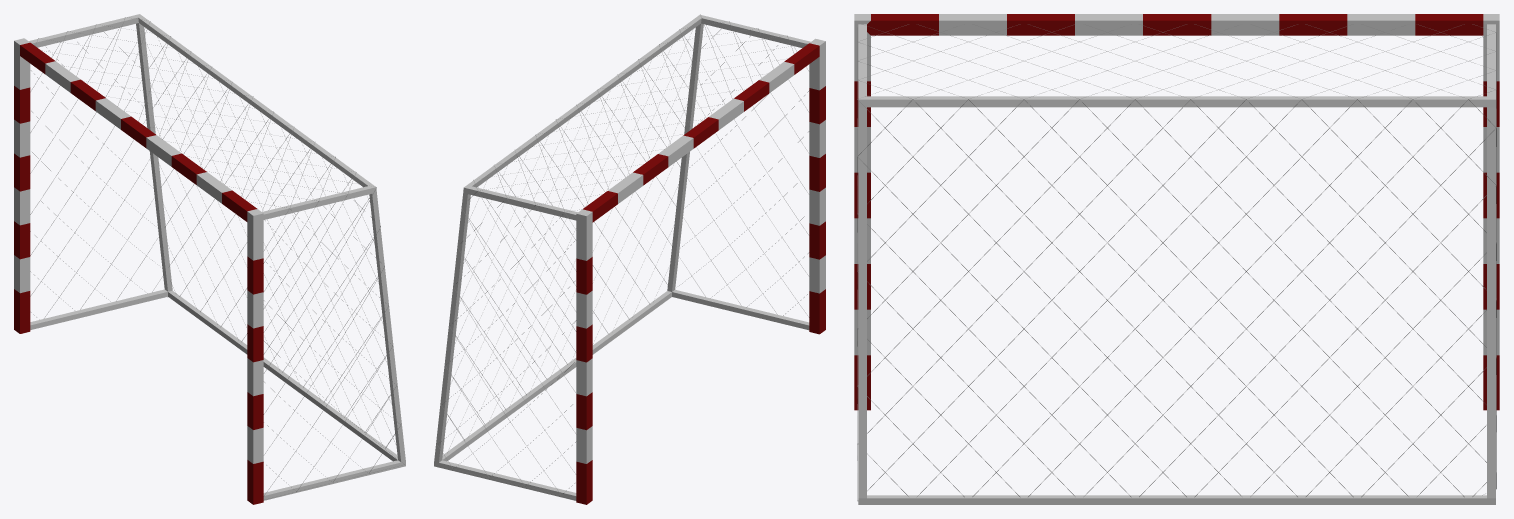
File: soccer_net.obj
3 views of the same model, side by side, from view 1: azimuth 30°, elevation 25°; view 2: azimuth 150°, elevation 25°; view 3: azimuth 270°, elevation 25° (orthographic). The views are drawn at different scales.
Parts seen in each view (by area): view 1: PORTERIA_Plane; view 2: PORTERIA_Plane; view 3: PORTERIA_Plane.
Boxes of the visible parts, x1,y1,x2,y2 form: PORTERIA_Plane: (14, 14, 405, 504); PORTERIA_Plane: (434, 14, 825, 504); PORTERIA_Plane: (854, 14, 1499, 504).
Size of the model in its own units: 0.8418 by 1.51 by 2.27.
